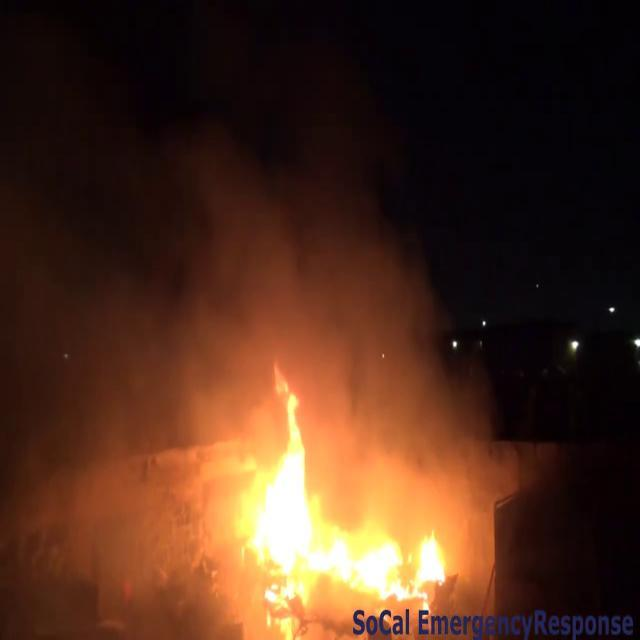Fire: (224, 362, 454, 608)
Smoke: (0, 99, 258, 604)
